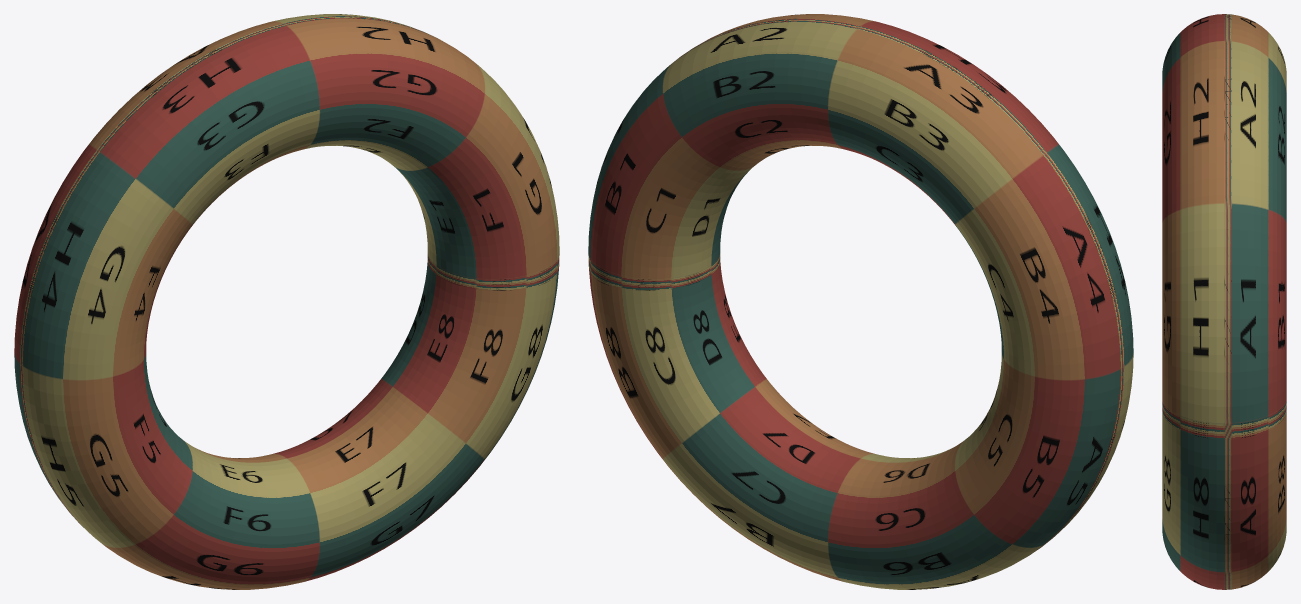
Rendered from texture_torus_R6_r5.glb.
3 renders of one model, left to right at view 1: azimuth 30°, elevation 25°; view 2: azimuth 150°, elevation 25°; view 3: azimuth 270°, elevation 25°, orthographic. The views are drawn at different scales.
Visible parts, largest first — view 1: world; view 2: world; view 3: world.
Boxes of the visible parts, <box> form: world: <box>14,14,559,589</box>; world: <box>588,14,1133,589</box>; world: <box>1162,14,1286,589</box>.
Bounding box in the file's own units: 29.78 × 29.78 × 6.43.
Materials: 1 (1 with a texture image).
